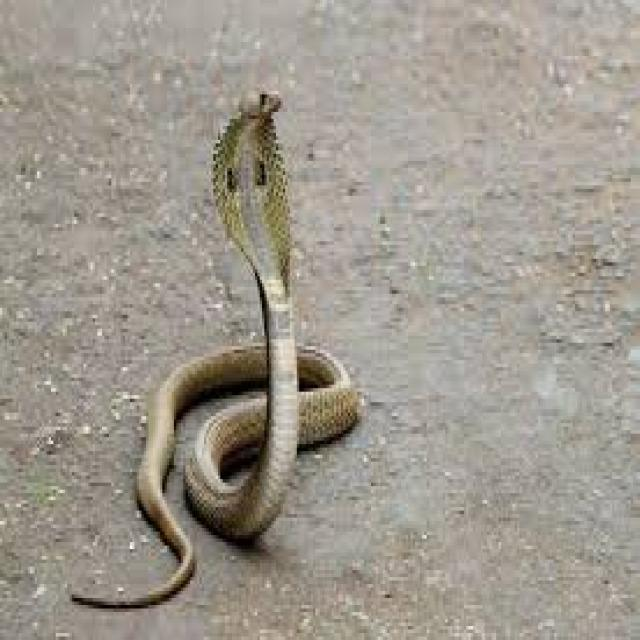Snake: (62, 81, 360, 616)
